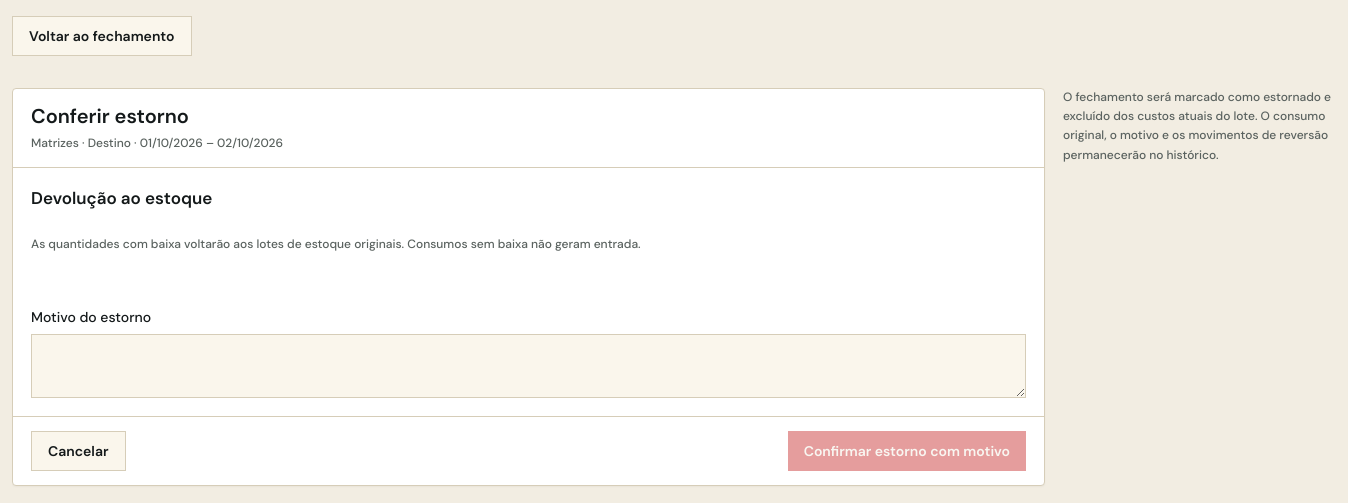
detalhe e formulário de estorno › impede estornos simultâneos antes do próximo render
The width and height of the screenshot is (1348, 503).
In the text box labelled "Motivo do estorno": (528, 366) [31, 334, 1026, 398], type "Consumo conferido"
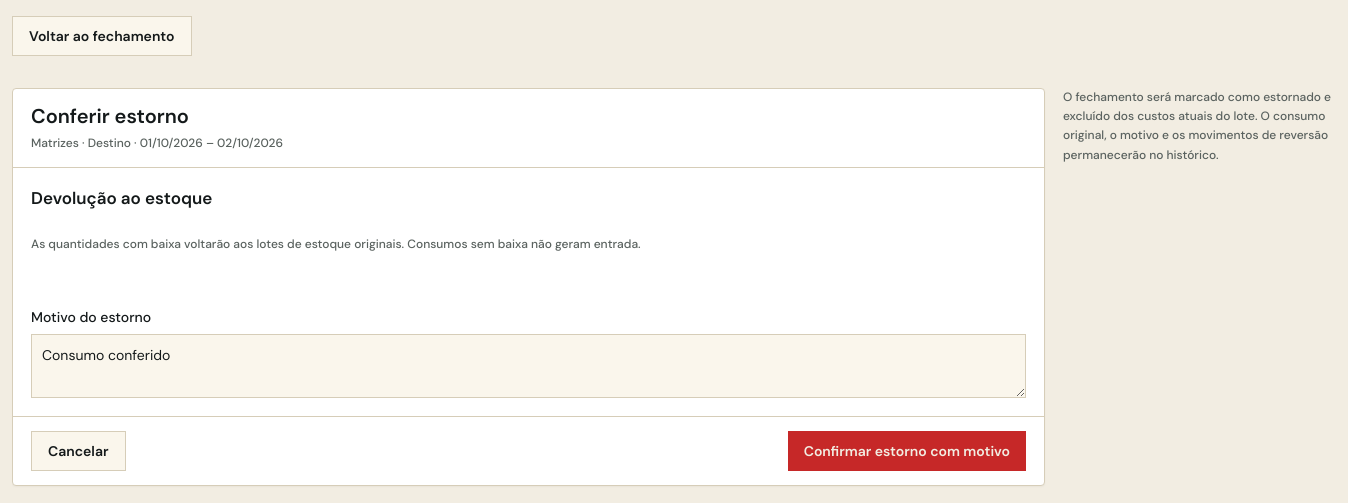
Submit the form named "Motivo do estorno", box [13, 168, 1044, 485]
Submit the form named "Motivo do estorno", box [13, 168, 1044, 485]
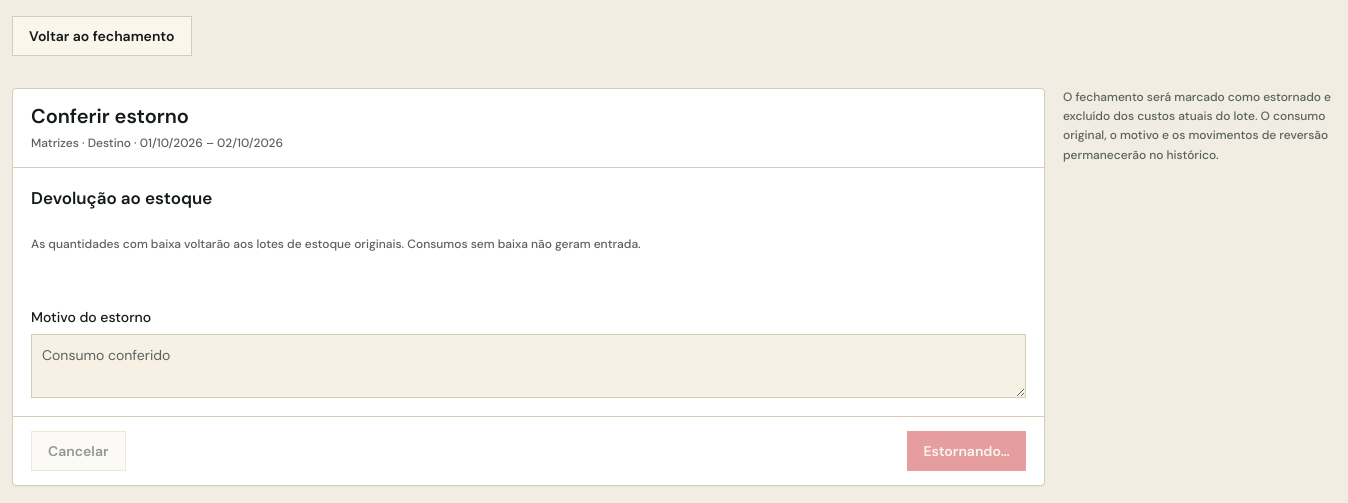
Result: the button "Estornando…" is disabled at [908, 431, 1026, 471]
